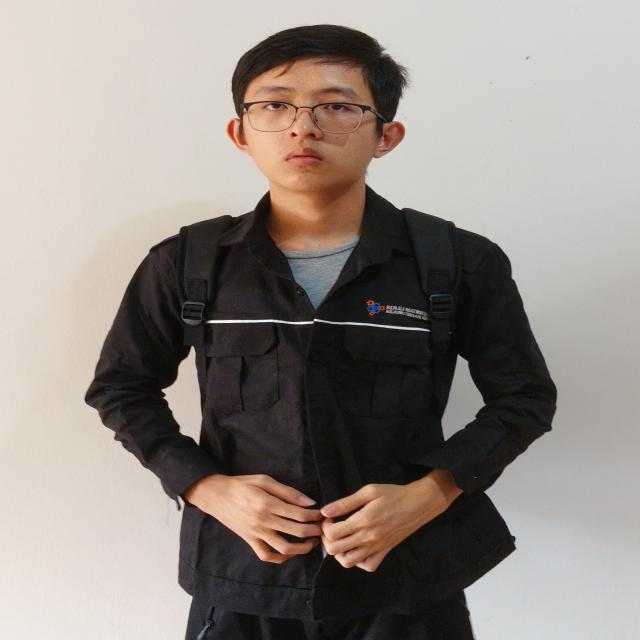person_with_labcoat: (86, 25, 556, 640)
